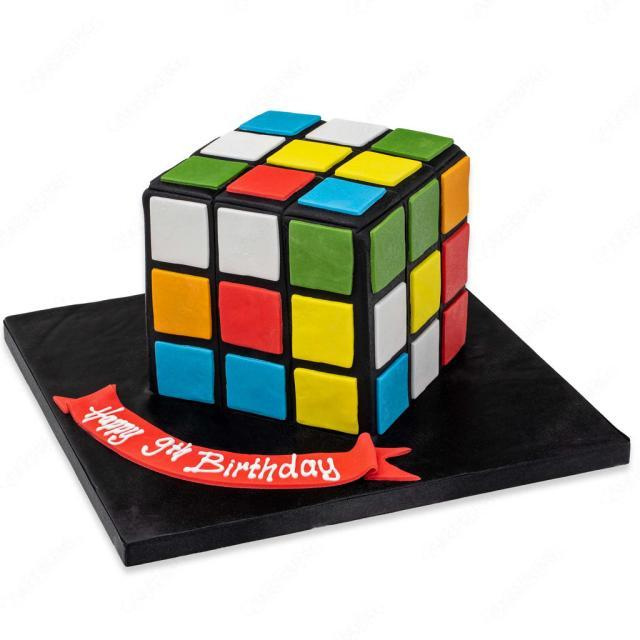Rub: (142, 94, 471, 439)
